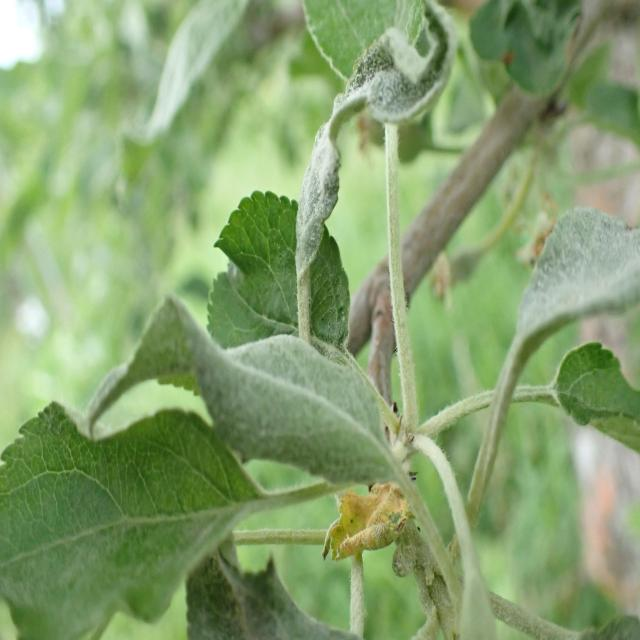Powdery_mildew: (66, 288, 406, 496), (285, 0, 463, 344), (481, 171, 640, 538)
